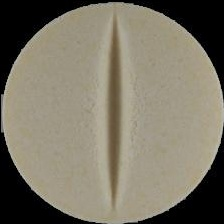70786-0212: (0, 0, 224, 224)
